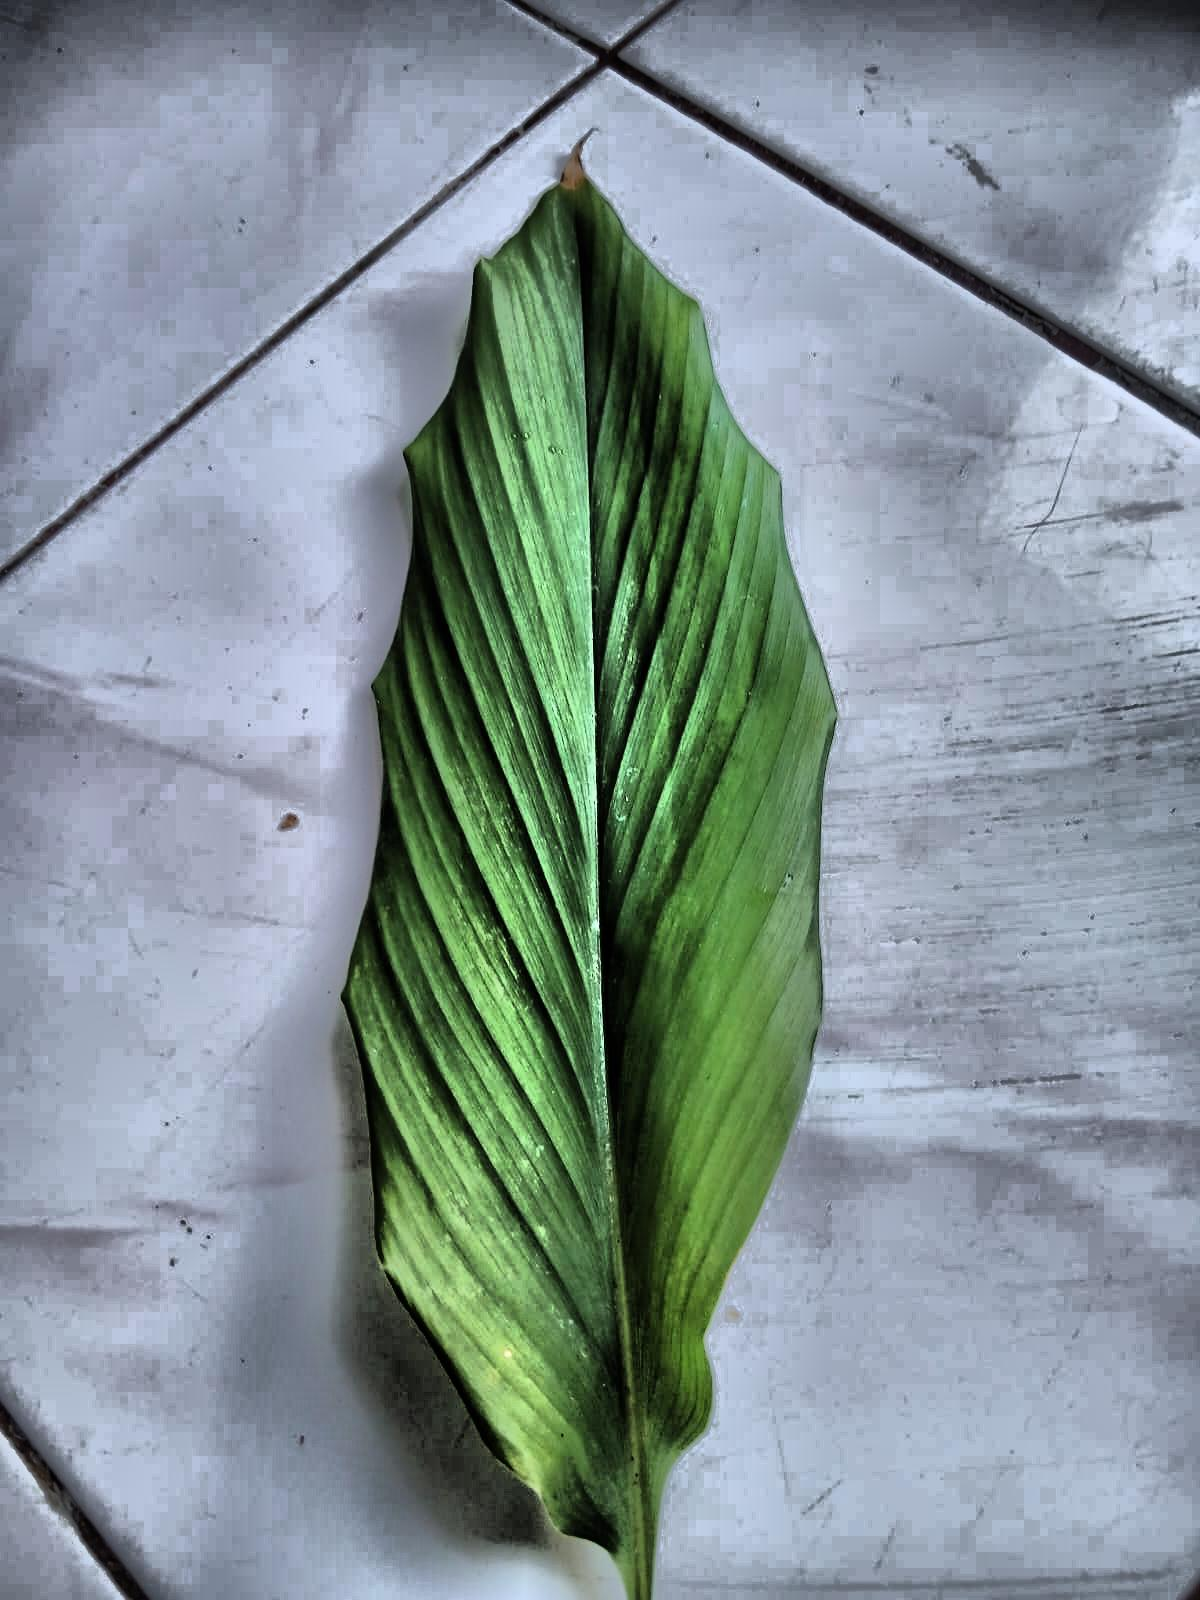daun kunyit: (344, 155, 834, 1599)
